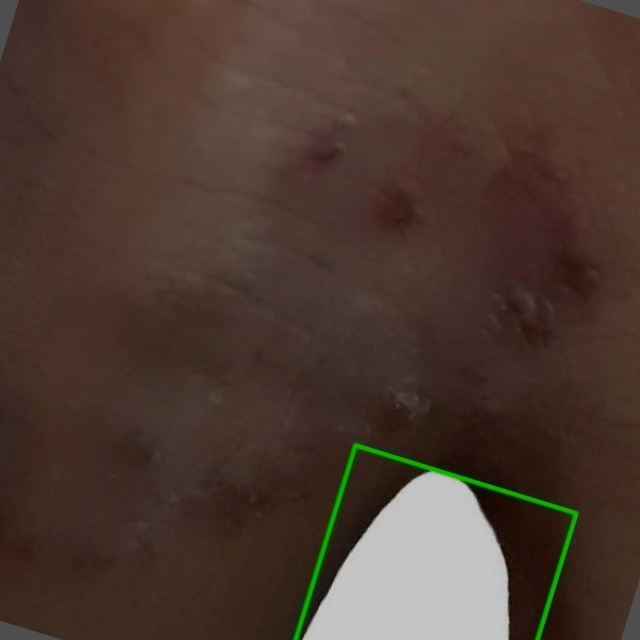Contact Dermatitis: (295, 445, 576, 639)
